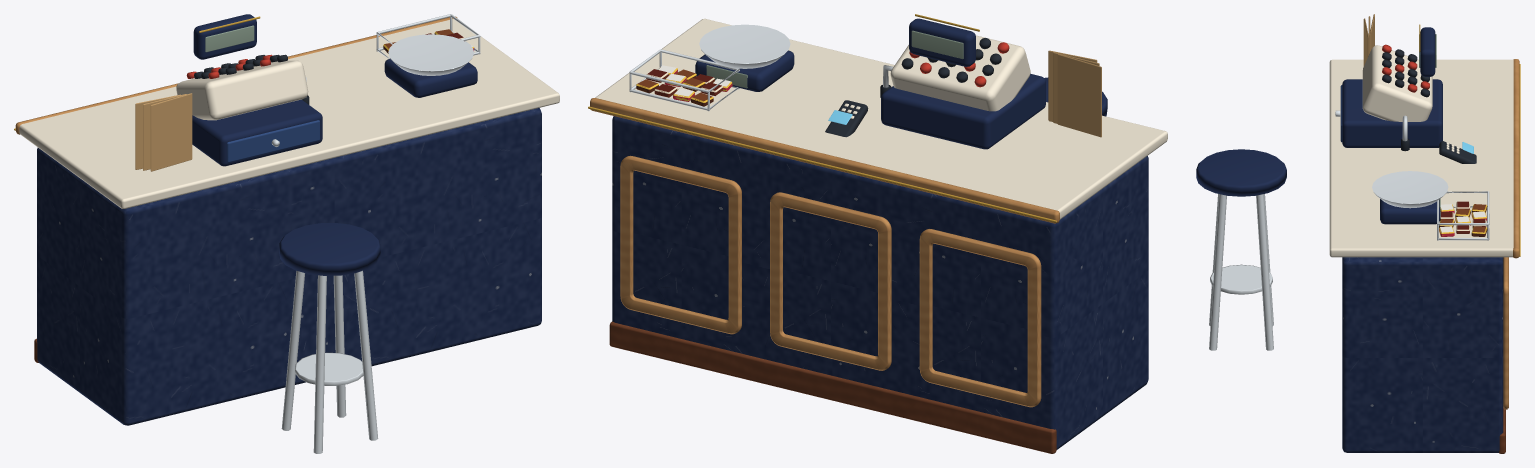
Rendered from checkout_T2.fbx.
The picture shows the model from 3 angles, left to right: view 1: azimuth 30°, elevation 25°; view 2: azimuth 150°, elevation 25°; view 3: azimuth 270°, elevation 25°; orthographic projection. The views are drawn at different scales.
Parts seen in each view (by area): view 1: Body; view 2: Body, Anim Fill 0; view 3: Body, Anim Fill 0.
Boxes of the visible parts, x1,y1,x2,y2 form: Body: (14,14,559,453); Body: (588,14,1167,453); Anim Fill 0: (636,65,732,106); Body: (1196,14,1520,453); Anim Fill 0: (1439,201,1487,236).
Bounding box in the file's own units: 1.8 × 1.32 × 1.29.
